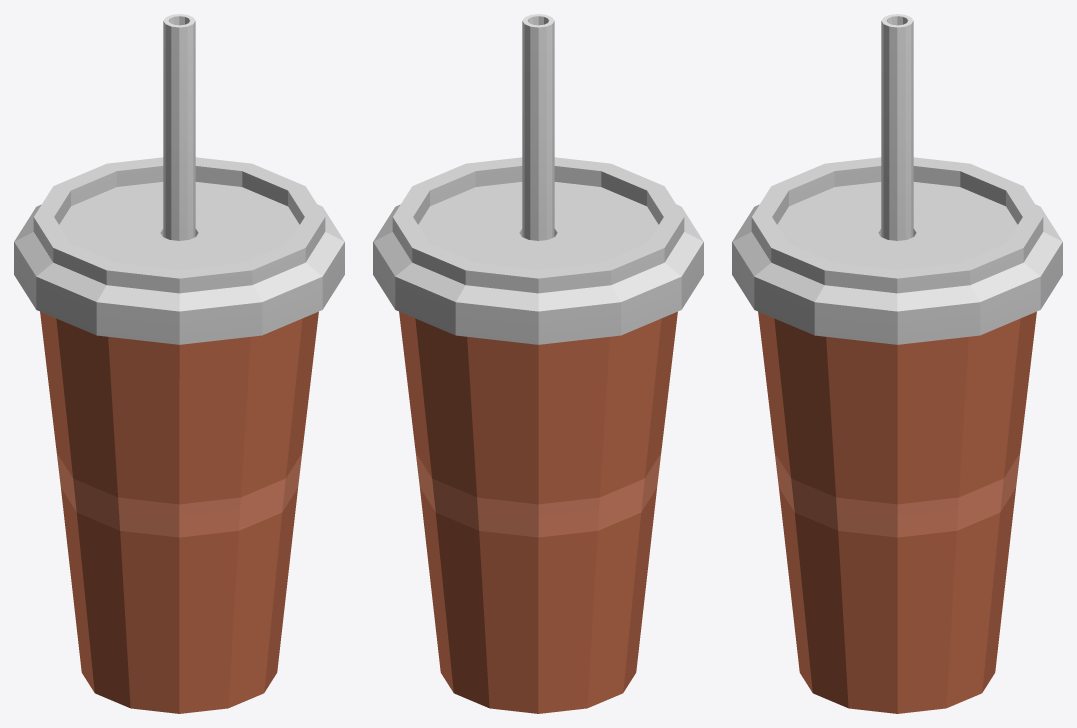
File: Cup_06.fbx
3 views of the same model, side by side, from view 1: azimuth 30°, elevation 25°; view 2: azimuth 150°, elevation 25°; view 3: azimuth 270°, elevation 25° (orthographic).
Visible parts, largest first — view 1: Cup_06; view 2: Cup_06; view 3: Cup_06.
Part boxes in pixels (<box>): Cup_06: <box>14,14,344,713</box>; Cup_06: <box>373,14,703,713</box>; Cup_06: <box>732,14,1062,713</box>.
Size of the model in its own units: 14.66 by 31.88 by 14.66.
